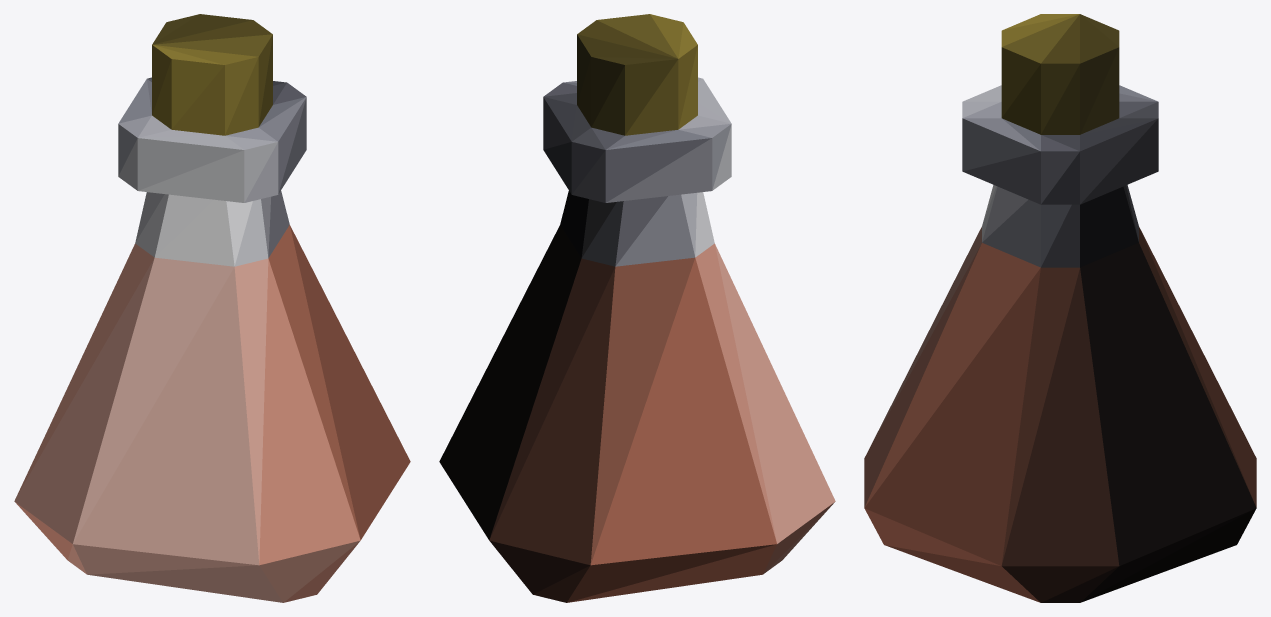
The model's file is magic-potion.obj.
The picture shows the model from 3 angles, left to right: view 1: azimuth 30°, elevation 25°; view 2: azimuth 150°, elevation 25°; view 3: azimuth 270°, elevation 25°; orthographic projection.
Parts seen in each view (by area): view 1: Item Magic potion(4) 2026-09-24_21-31-38; view 2: Item Magic potion(4) 2026-09-24_21-31-38; view 3: Item Magic potion(4) 2026-09-24_21-31-38.
Part boxes in pixels (box(x1,y1,x2,y2)): Item Magic potion(4) 2026-09-24_21-31-38: box(14, 14, 410, 602); Item Magic potion(4) 2026-09-24_21-31-38: box(439, 14, 835, 602); Item Magic potion(4) 2026-09-24_21-31-38: box(864, 14, 1256, 602).
Size of the model in its own units: 20 by 28 by 20.
